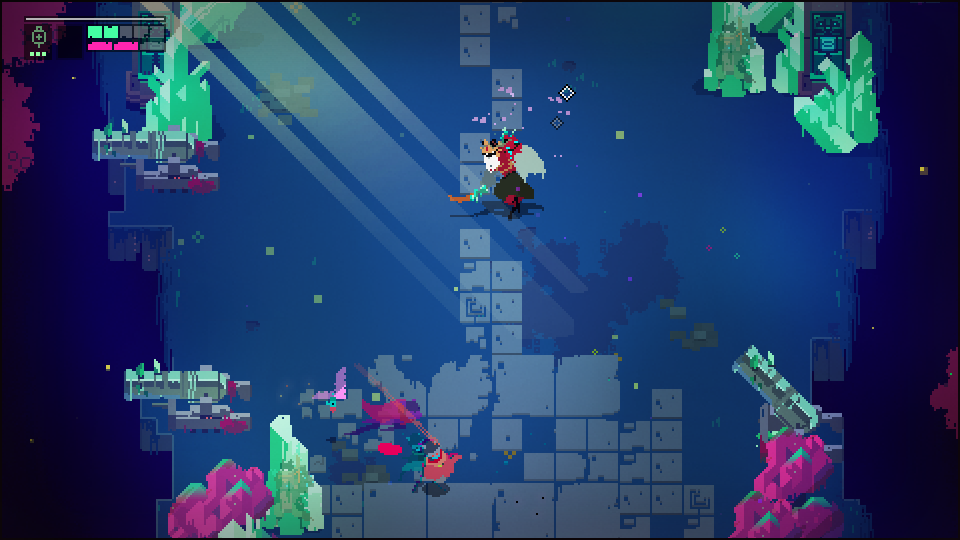hanged_man: (470, 126, 546, 218)
player: (425, 446, 457, 490)
